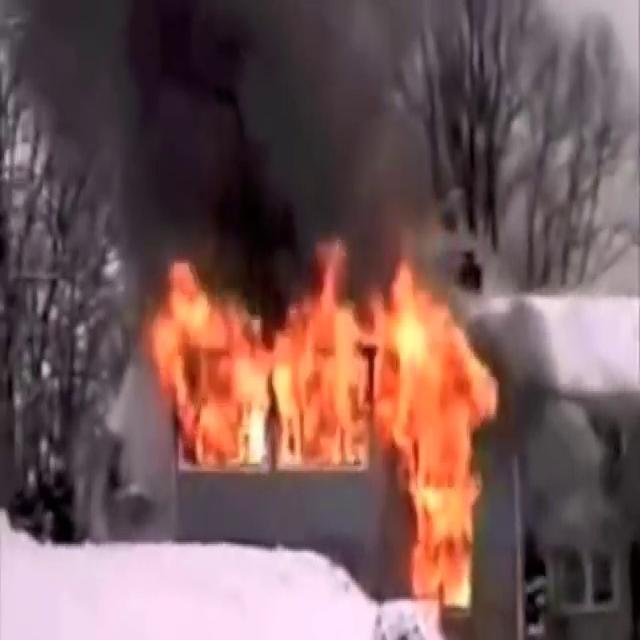Fire: (138, 242, 504, 604)
Smoke: (10, 1, 452, 286), (486, 301, 626, 552)
